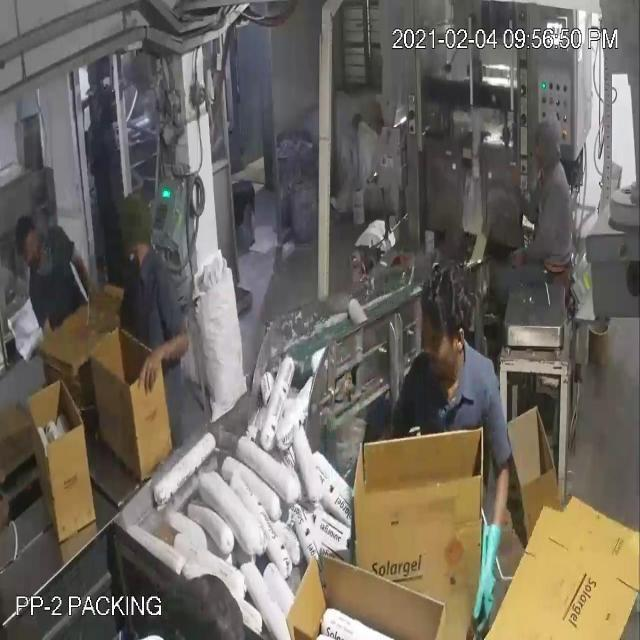No_Gloves: (54, 90, 490, 558)
